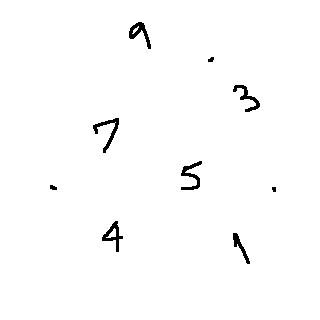.: (45, 181, 65, 193), (268, 182, 283, 196), (205, 53, 220, 64)
1: (227, 225, 255, 274)
3: (227, 79, 266, 126), (164, 157, 211, 193)
4: (94, 214, 136, 268)
7: (86, 106, 130, 159)
9: (126, 15, 154, 58)
